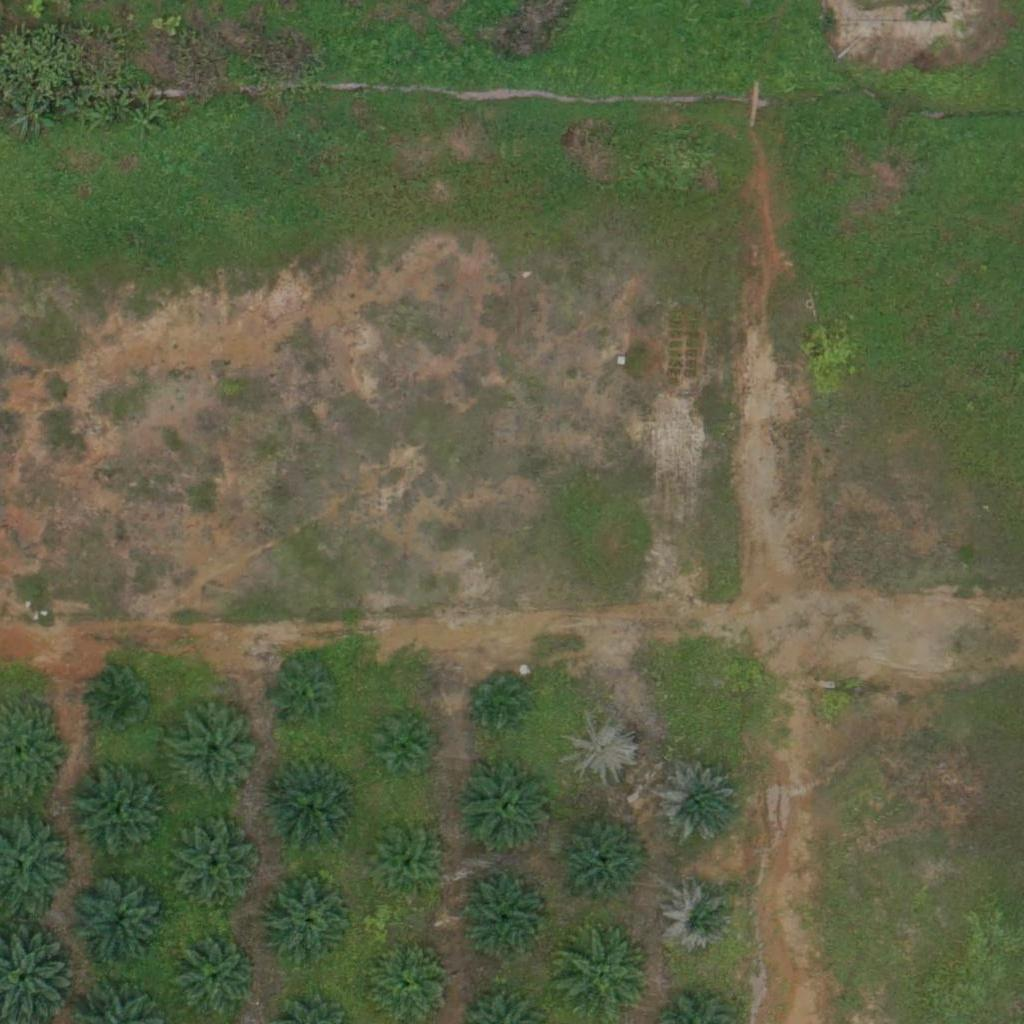Kelapa_Sawit: (68, 762, 168, 863), (71, 870, 171, 971), (165, 700, 265, 801), (457, 758, 557, 858), (556, 812, 656, 912), (173, 824, 261, 913), (267, 767, 355, 855), (264, 880, 352, 968), (652, 760, 740, 848), (462, 875, 549, 963), (563, 711, 638, 787), (664, 881, 739, 957), (369, 830, 444, 905), (274, 663, 337, 726), (371, 710, 434, 773), (91, 665, 154, 728), (467, 671, 529, 733)
